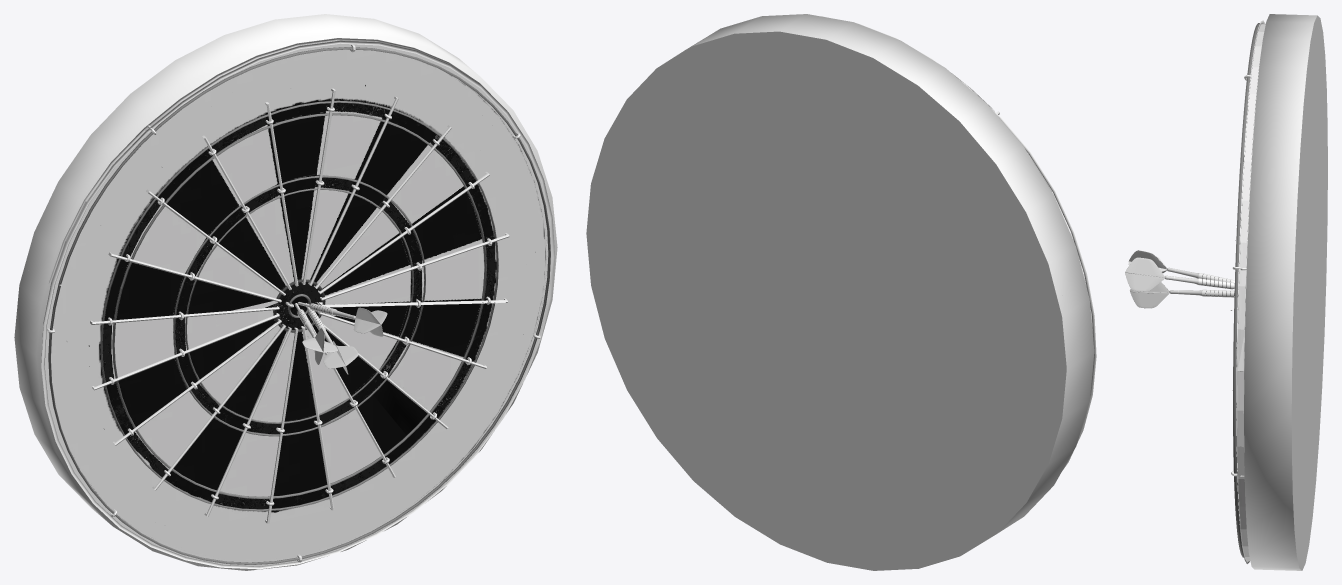
File: ads.glb
3 views of the same model, side by side, from view 1: azimuth 30°, elevation 25°; view 2: azimuth 150°, elevation 25°; view 3: azimuth 270°, elevation 25° (orthographic). The views are drawn at different scales.
Parts seen in each view (by area): view 1: Object_2.013, Object_2.001, Object_2.007; view 2: Object_2.001, Object_2.013; view 3: Object_2.001, Object_2.013, Object_2.007.
Boxes of the visible parts, x1,y1,x2,y2 form: Object_2.013: (41,38,555,569); Object_2.001: (14,14,557,570); Object_2.007: (302,307,387,374); Object_2.001: (586,14,1094,570); Object_2.013: (821,16,1096,470); Object_2.001: (1173,14,1327,570); Object_2.013: (1230,20,1265,563); Object_2.007: (1125,250,1202,308).
Size of the model in its own units: 355 by 354 by 129.
Materials: 18 (2 with a texture image).
